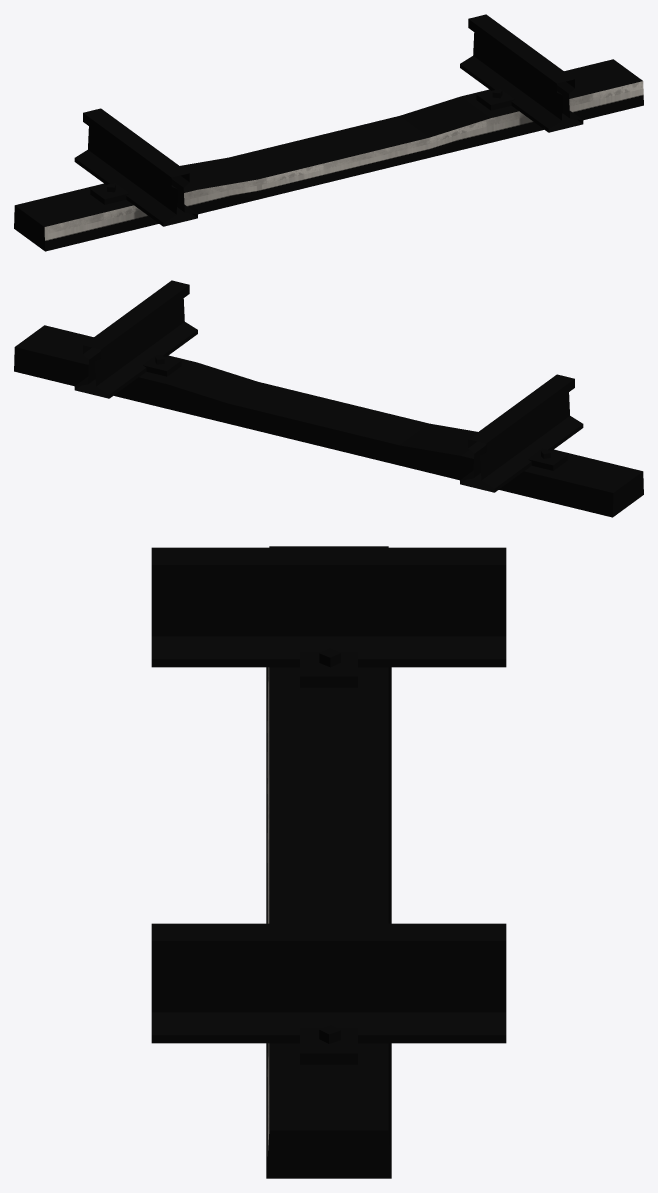
Rendered from rail.obj.
3 renders of one model, top to bottom at view 1: azimuth 30°, elevation 25°; view 2: azimuth 150°, elevation 25°; view 3: azimuth 270°, elevation 25°, orthographic. The views are drawn at different scales.
Size of the model in its own units: 2.34 by 0.2652 by 0.6.
1 material, 1 textured.
